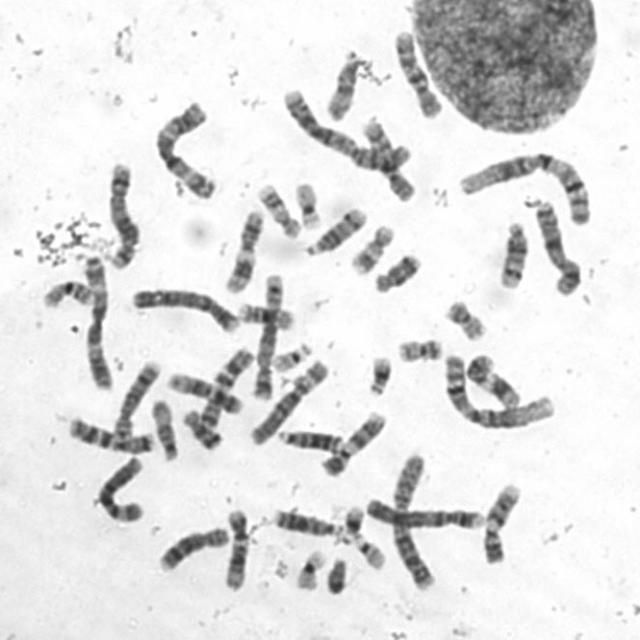A1: (452, 143, 597, 227), (436, 346, 558, 431)
A2: (277, 82, 414, 173), (385, 448, 439, 592)
A3: (148, 94, 220, 201), (75, 248, 116, 390)
B4: (125, 280, 244, 334), (359, 491, 488, 532)
B5: (248, 268, 287, 400), (101, 155, 142, 270)
C10: (356, 111, 419, 203), (388, 23, 446, 119)
C11: (218, 203, 266, 295), (460, 346, 524, 411)
C12: (162, 366, 245, 415), (217, 503, 250, 592)
C6: (244, 351, 331, 447), (90, 448, 148, 524)
C7: (194, 340, 256, 430), (62, 409, 158, 455)
C8: (106, 354, 164, 440), (153, 520, 232, 573)
C9: (315, 404, 388, 478), (478, 476, 524, 566)
D13: (268, 502, 346, 538), (272, 422, 346, 454)
D14: (300, 200, 369, 258), (493, 214, 531, 290)
D15: (320, 49, 368, 122), (146, 393, 181, 462)
E16: (232, 295, 297, 331), (38, 273, 96, 310)
E17: (251, 177, 303, 240), (346, 218, 396, 276)
E18: (368, 245, 424, 295), (176, 401, 225, 452)
F19: (290, 543, 328, 593), (290, 176, 324, 230)
F20: (440, 293, 489, 342), (392, 330, 446, 364)
G21: (332, 497, 368, 544), (362, 348, 394, 398)
G22: (266, 335, 314, 373), (348, 528, 389, 572)
X: (528, 193, 584, 297)
Y: (322, 550, 351, 596)
